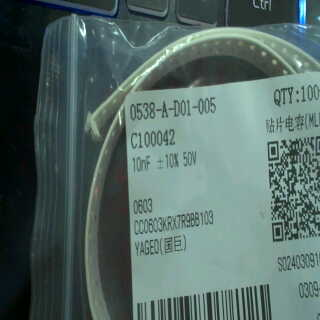10nF: (129, 151, 153, 172)
